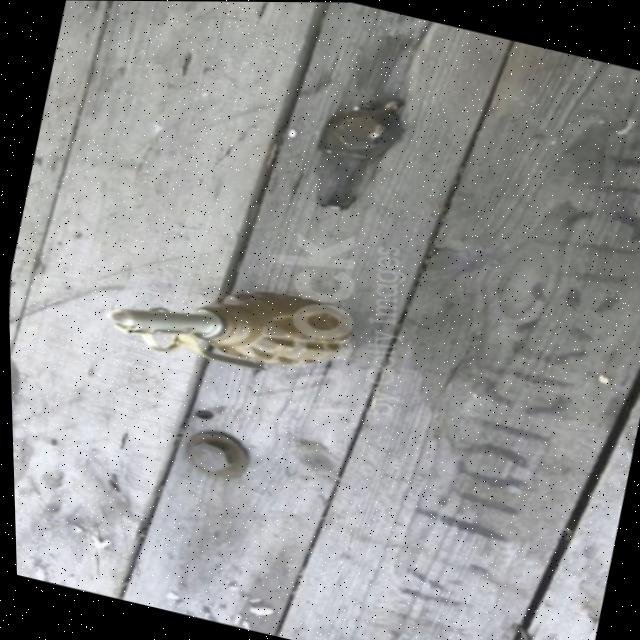grenade: (88, 236, 374, 420)
